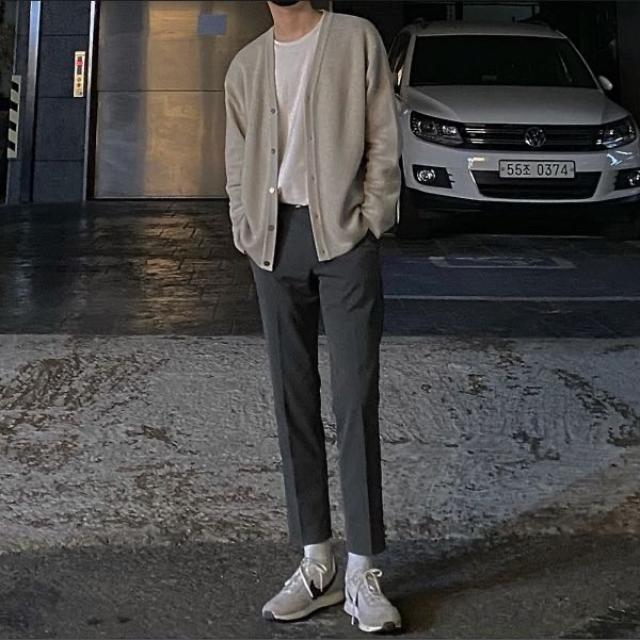cardigan: (224, 4, 400, 273)
slacks: (242, 193, 388, 559)
